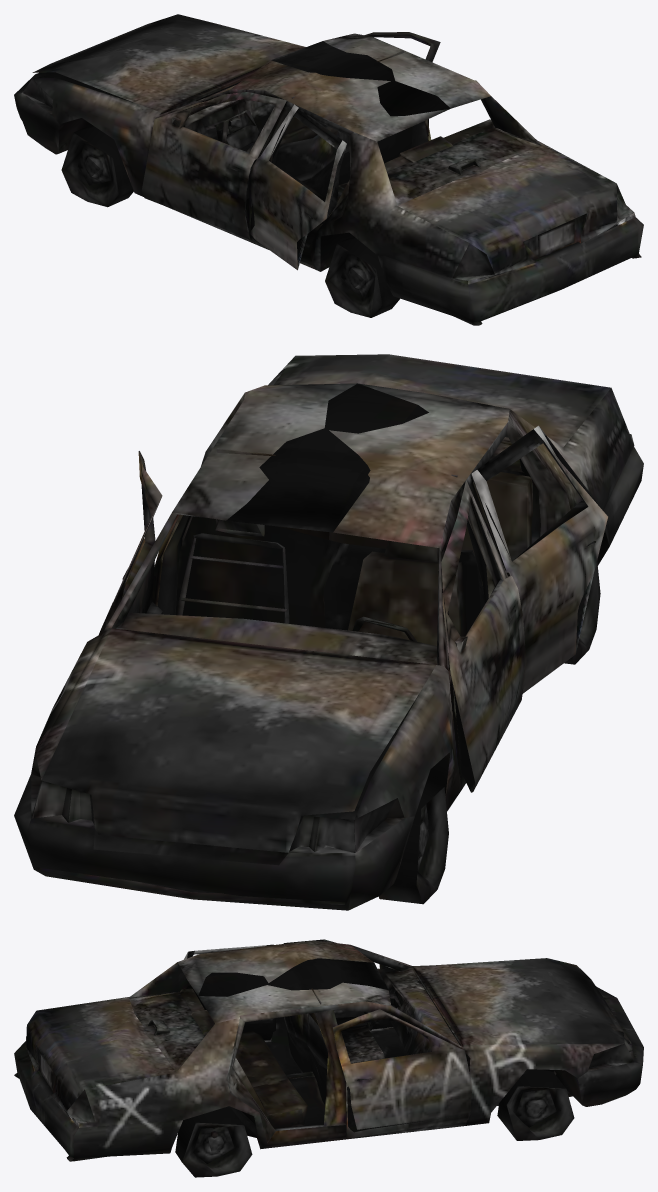
Rendered from burned-police-a.lod0.glb.
3 views of the same model, one above another, from view 1: azimuth 30°, elevation 25°; view 2: azimuth 150°, elevation 25°; view 3: azimuth 270°, elevation 25° (orthographic). The views are drawn at different scales.
Parts seen in each view (by area): view 1: Object004_Material #98_0; view 2: Object004_Material #98_0; view 3: Object004_Material #98_0.
Part boxes in pixels (bbox=[...]): Object004_Material #98_0: bbox=[14, 14, 643, 325]; Object004_Material #98_0: bbox=[14, 354, 643, 910]; Object004_Material #98_0: bbox=[14, 939, 643, 1177].
Bounding box in the file's own units: 2.85 × 1.29 × 4.96.
1 material, 1 textured.
